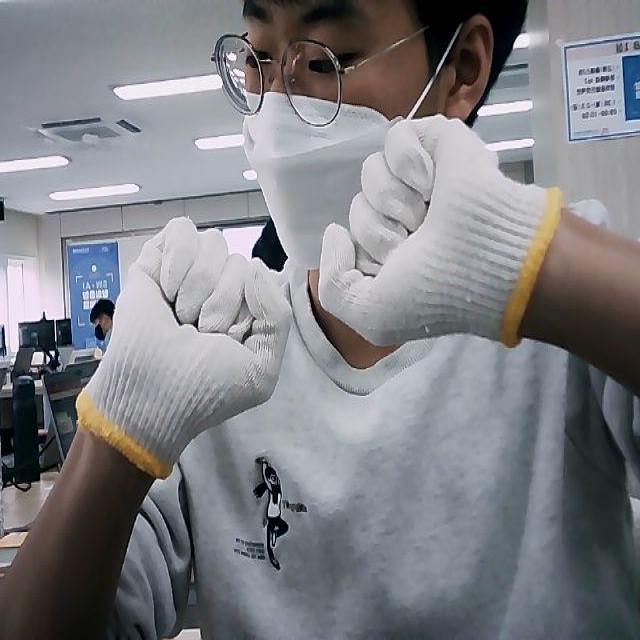gloves: (316, 116, 558, 347), (76, 216, 292, 469)
